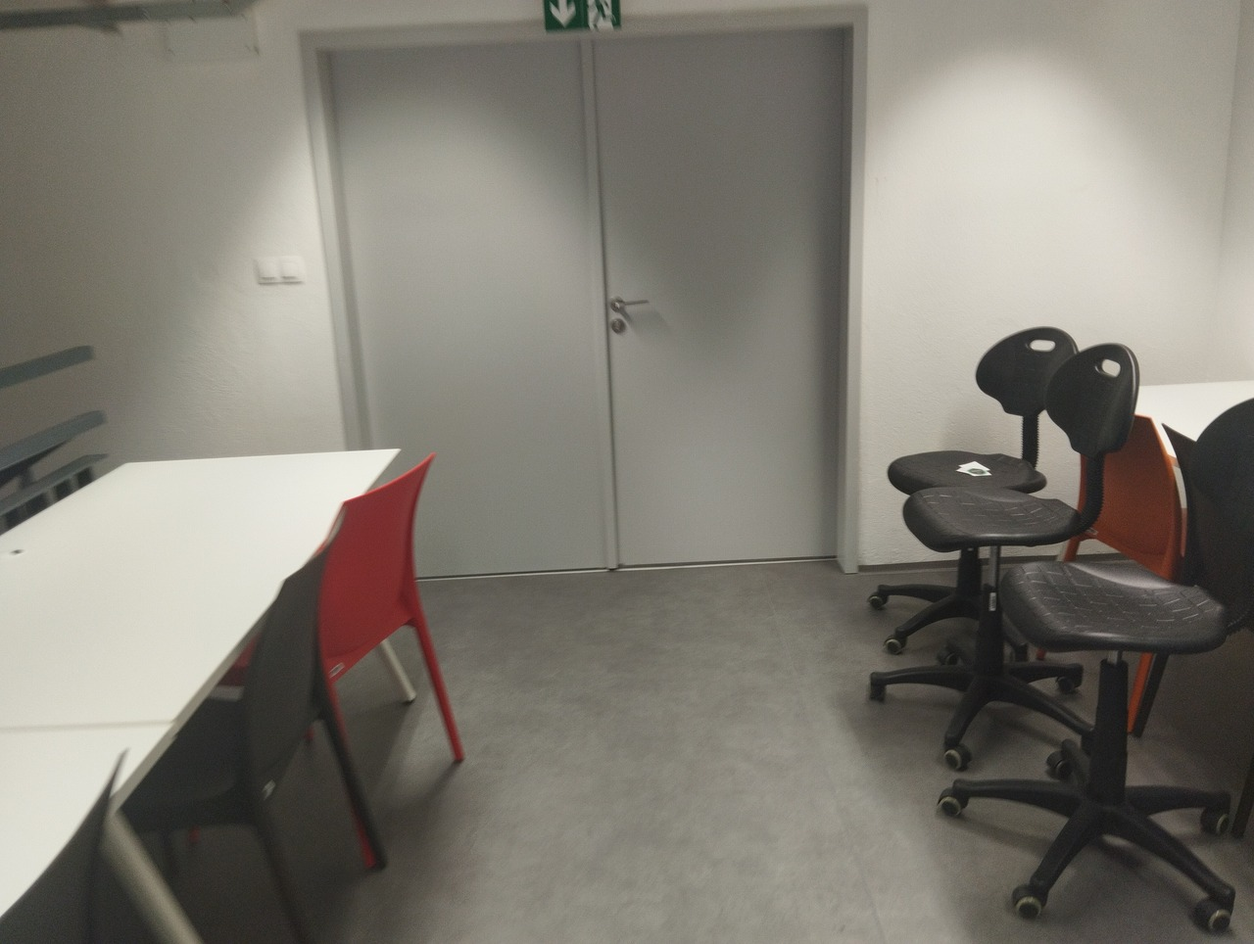Door-handle: (853, 479, 1250, 927)
